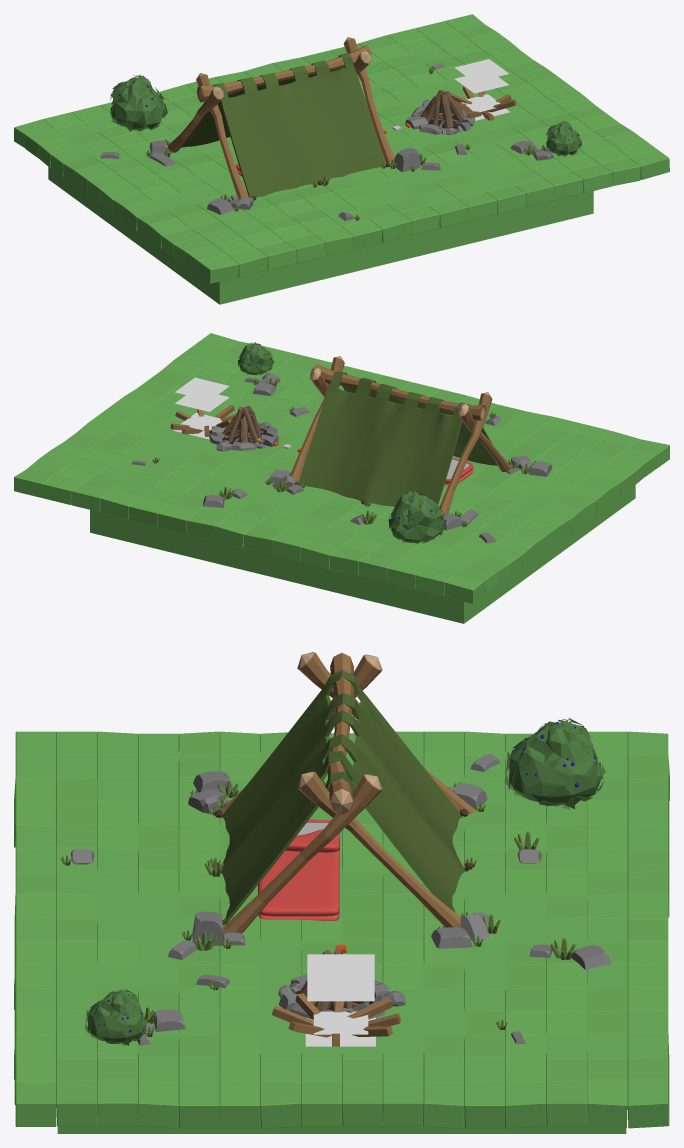
The model's file is Tent (1) 1.fbx.
3 renders of one model, top to bottom at view 1: azimuth 30°, elevation 25°; view 2: azimuth 150°, elevation 25°; view 3: azimuth 270°, elevation 25°, orthographic. The views are drawn at different scales.
Parts seen in each view (by area): view 1: Plane, Tent, Plane.001, Sphere, Cylinder, Cylinder.004, Cylinder.001, Sphere.002, Icosphere.001, Plane.005, Cylinder.003, Plane.004 (+1 smaller); view 2: Plane, Tent, Plane.001, Sphere, Cylinder, Cylinder.003, Icosphere.001, Sphere.002, Cylinder.002, Plane.005, Cylinder.004, Plane.004; view 3: Plane, Tent, Plane.001, Sphere, Cube.013, Cylinder.001, Cylinder.002, Sphere.002, Plane.005, Cylinder, Icosphere.001, Plane.004 (+5 smaller).
Part boxes in pixels (x1=…): Plane: x1=14, y1=14, x2=669, y2=283; Tent: x1=181, y1=52, x2=385, y2=197; Plane.001: x1=48, y1=48, x2=593, y2=304; Sphere: x1=110, y1=74, x2=167, y2=131; Cylinder: x1=197, y1=45, x2=370, y2=102; Cylinder.004: x1=196, y1=74, x2=249, y2=199; Cylinder.001: x1=343, y1=38, x2=394, y2=163; Sphere.002: x1=546, y1=121, x2=581, y2=156; Icosphere.001: x1=405, y1=99, x2=474, y2=134; Plane.005: x1=454, y1=59, x2=508, y2=82; Cylinder.003: x1=167, y1=86, x2=223, y2=152; Plane.004: x1=454, y1=76, x2=508, y2=93; Plane: x1=14, y1=333, x2=669, y2=604; Tent: x1=298, y1=371, x2=497, y2=506; Plane.001: x1=90, y1=364, x2=635, y2=623; Sphere: x1=388, y1=491, x2=446, y2=543; Cylinder: x1=313, y1=364, x2=486, y2=421; Cylinder.003: x1=439, y1=393, x2=492, y2=515; Icosphere.001: x1=209, y1=422, x2=279, y2=451; Sphere.002: x1=238, y1=342, x2=273, y2=375; Cylinder.002: x1=290, y1=357, x2=344, y2=485; Plane.005: x1=175, y1=377, x2=229, y2=400; Cylinder.004: x1=457, y1=403, x2=511, y2=471; Plane.004: x1=175, y1=394, x2=229, y2=411; Plane: x1=14, y1=731, x2=669, y2=1128; Tent: x1=221, y1=670, x2=465, y2=924; Plane.001: x1=57, y1=751, x2=626, y2=1133; Sphere: x1=504, y1=718, x2=606, y2=809; Cube.013: x1=258, y1=819, x2=339, y2=920; Cylinder.001: x1=223, y1=774, x2=382, y2=934; Cylinder.002: x1=297, y1=771, x2=461, y2=928; Sphere.002: x1=85, y1=989, x2=147, y2=1046; Plane.005: x1=307, y1=954, x2=374, y2=982; Cylinder: x1=327, y1=653, x2=353, y2=814; Icosphere.001: x1=278, y1=974, x2=405, y2=1019; Plane.004: x1=307, y1=982, x2=374, y2=1001.
Size of the model in its own units: 4757 by 1418 by 3538.
